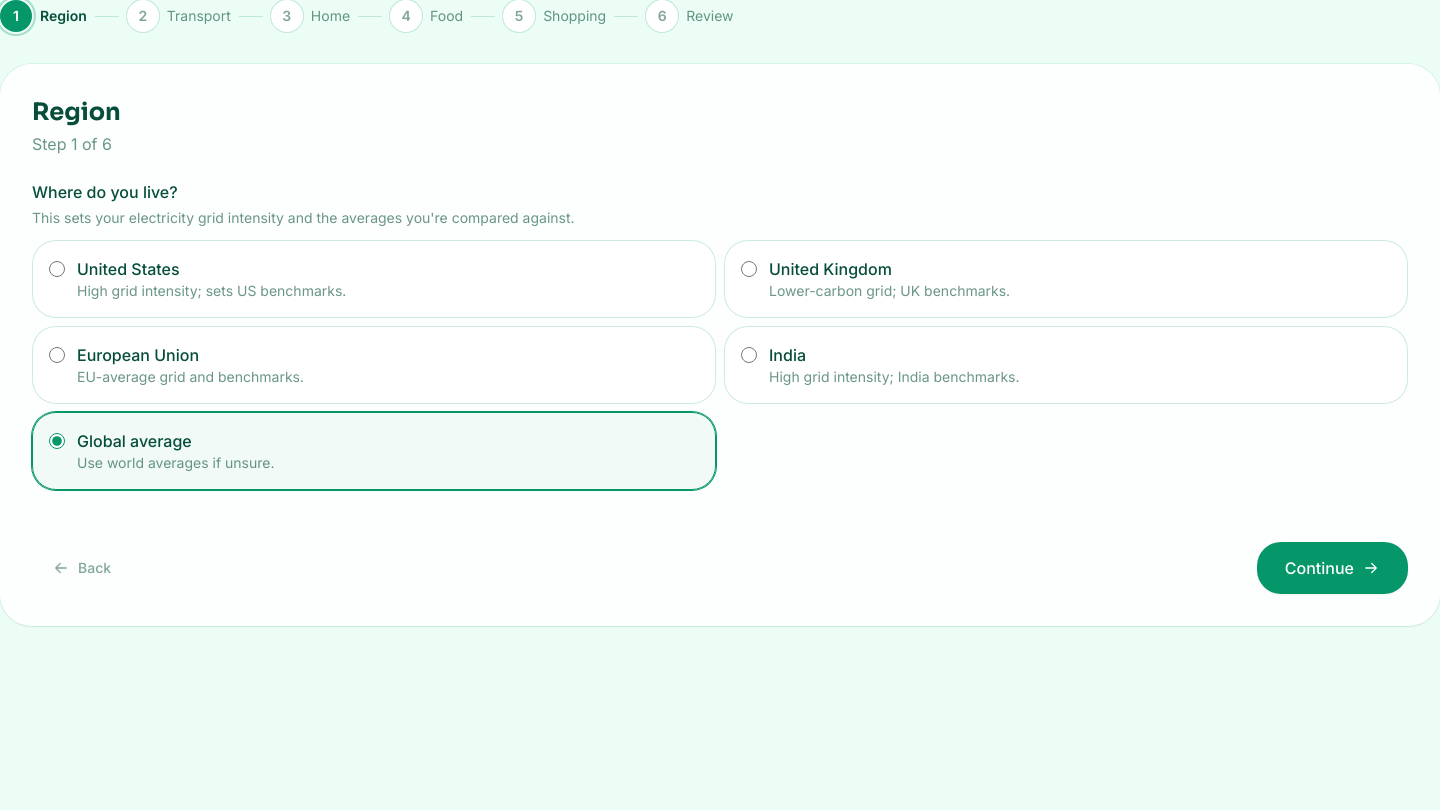
it: CalculatorForm › advances through steps and moves focus to the step heading
Click the button "Continue" at (1332, 568), box [1257,542,1408,594]
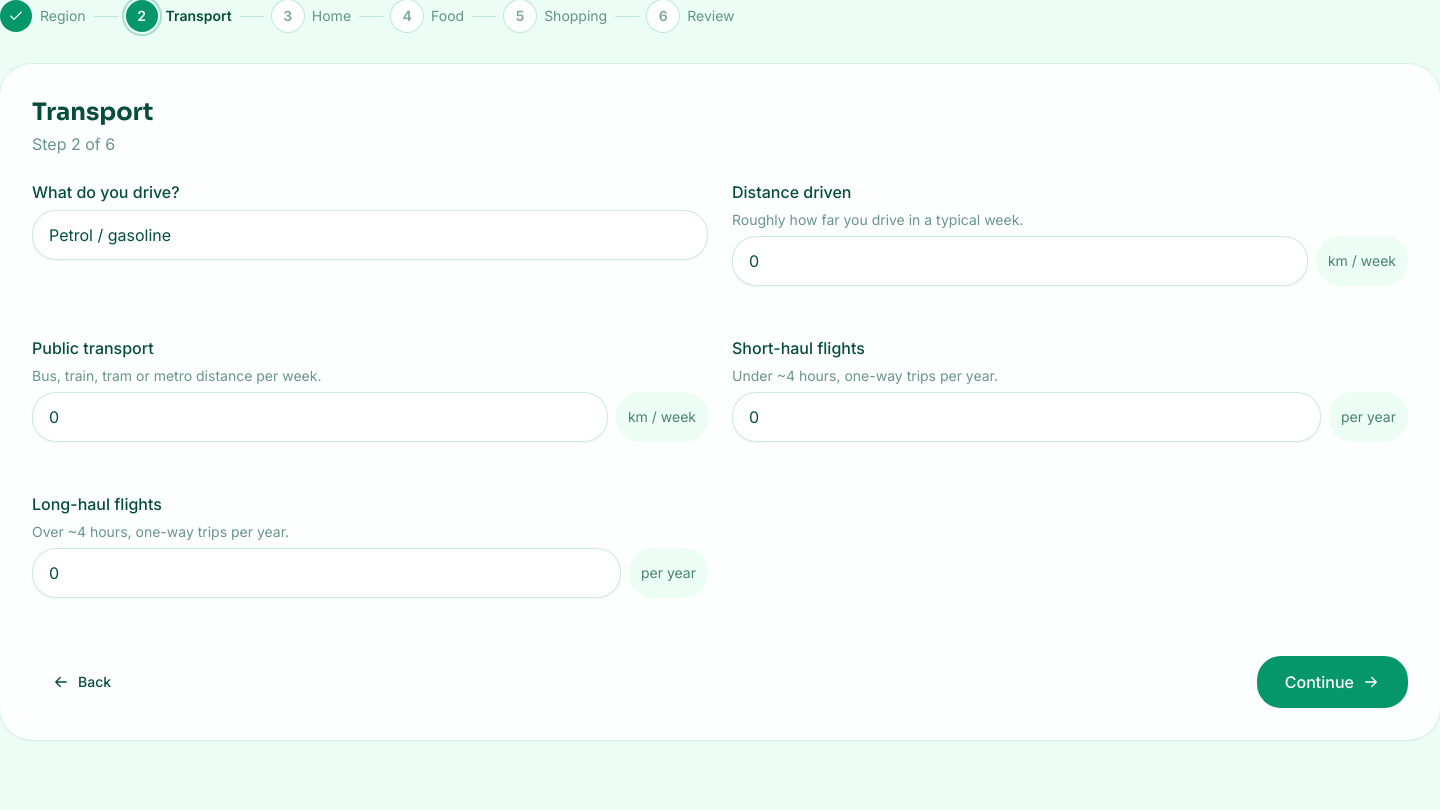
Result: the heading "Transport" is shown at [32,97,153,127]
